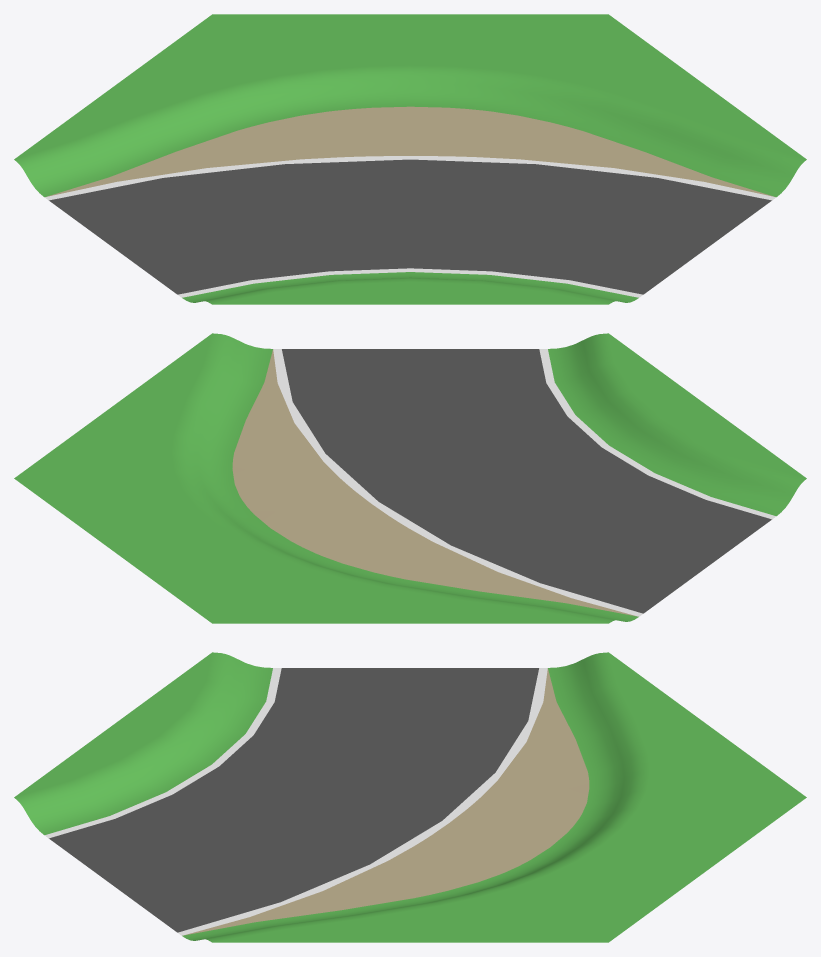
The model's file is Track_Flat_Curve_Gentle_Runoff.obj.
The picture shows the model from 3 angles, top to bottom: view 1: azimuth 30°, elevation 25°; view 2: azimuth 150°, elevation 25°; view 3: azimuth 270°, elevation 25°; orthographic projection.
Parts seen in each view (by area): view 1: object1.020; view 2: object1.020; view 3: object1.020.
Part boxes in pixels (x1,y1,x2,y2): object1.020: (14, 14, 806, 304); object1.020: (14, 333, 806, 623); object1.020: (14, 652, 806, 942).
Size of the model in its own units: 1 by 0.025 by 1.15.
